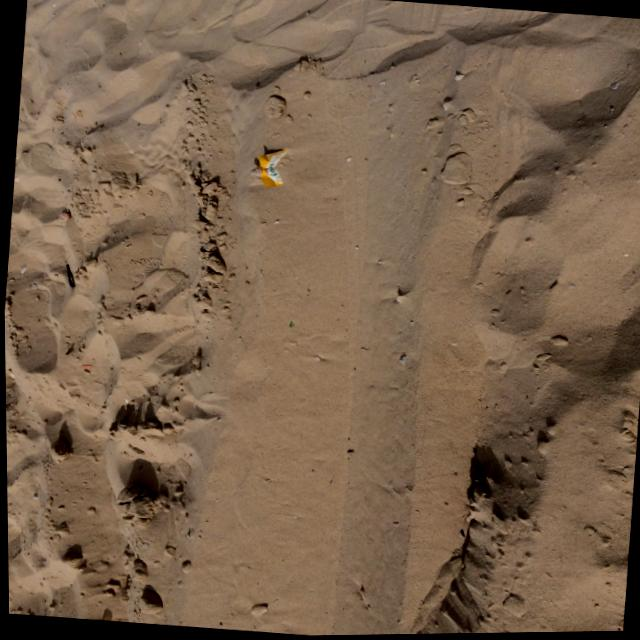Plastic: (241, 141, 296, 192)
